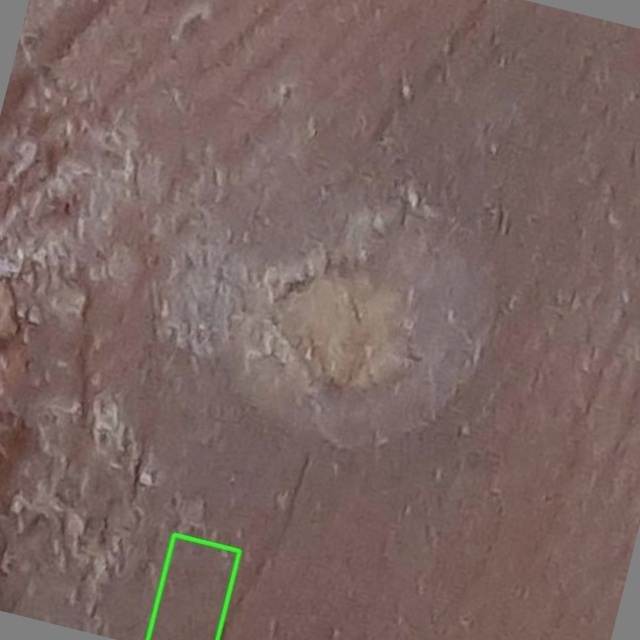Eczema: (147, 534, 239, 639)
